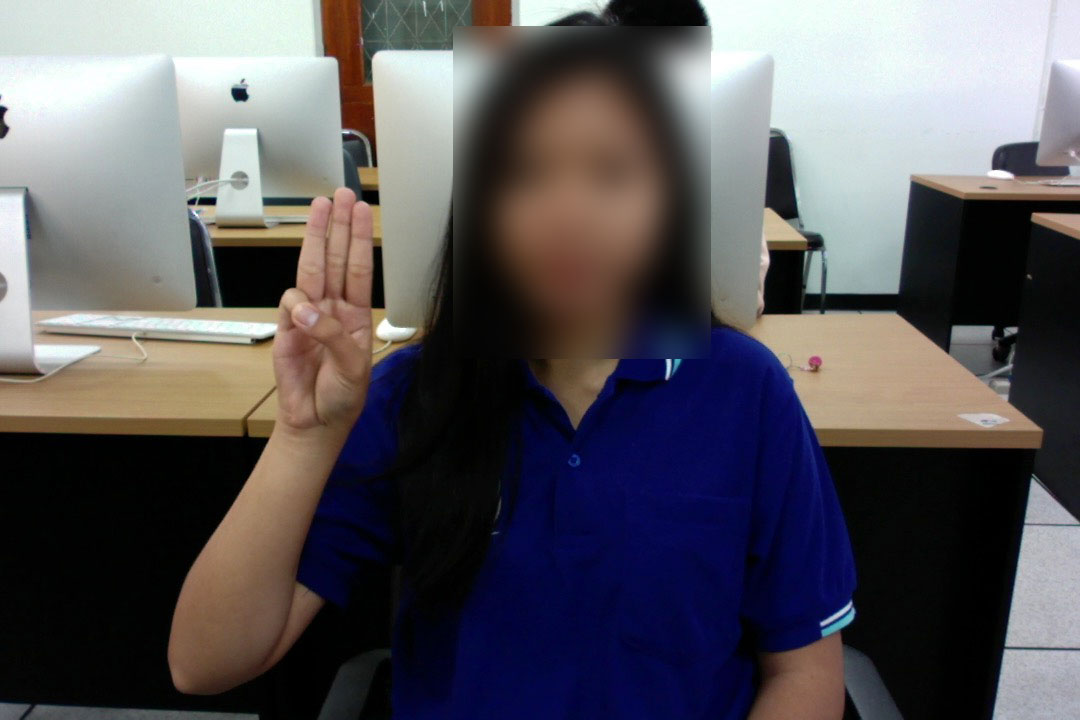wor: (264, 184, 395, 436)
